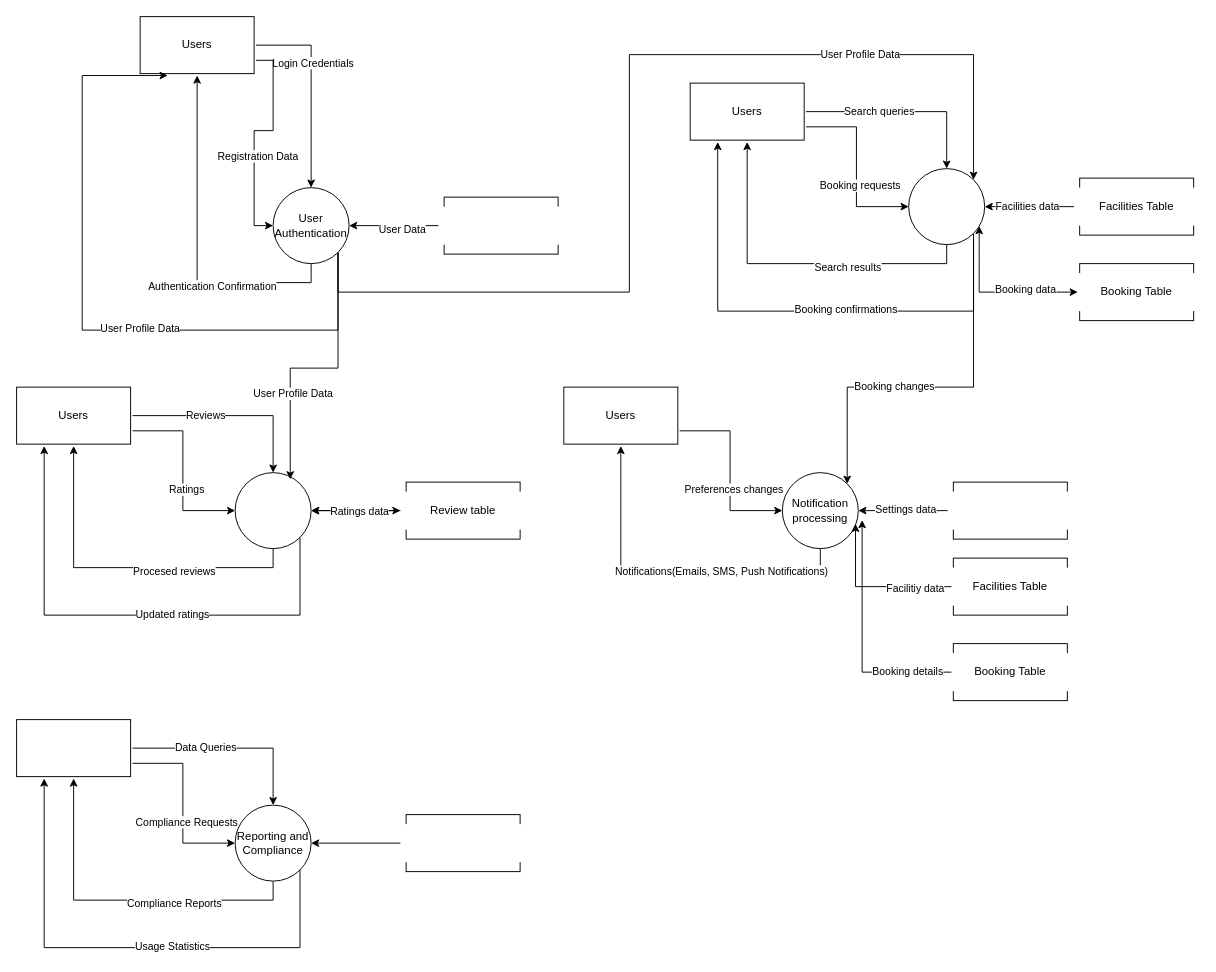
Some shapes in this 1216 by 972 pixel diagram are drawn without their labels. The centre of each missing label's shape, as x and y in pixels:
"Admins Facility Owners Regulatory Bodies" belongs at point 73,748.
"Facility Search and Booking" belongs at point 946,206.
"Notification Settings Table" belongs at point 1009,510.
"Review and Ratings" belongs at point 272,510.
"Statistics" belongs at point 462,843.
"User Account Table" belongs at point 500,225.
